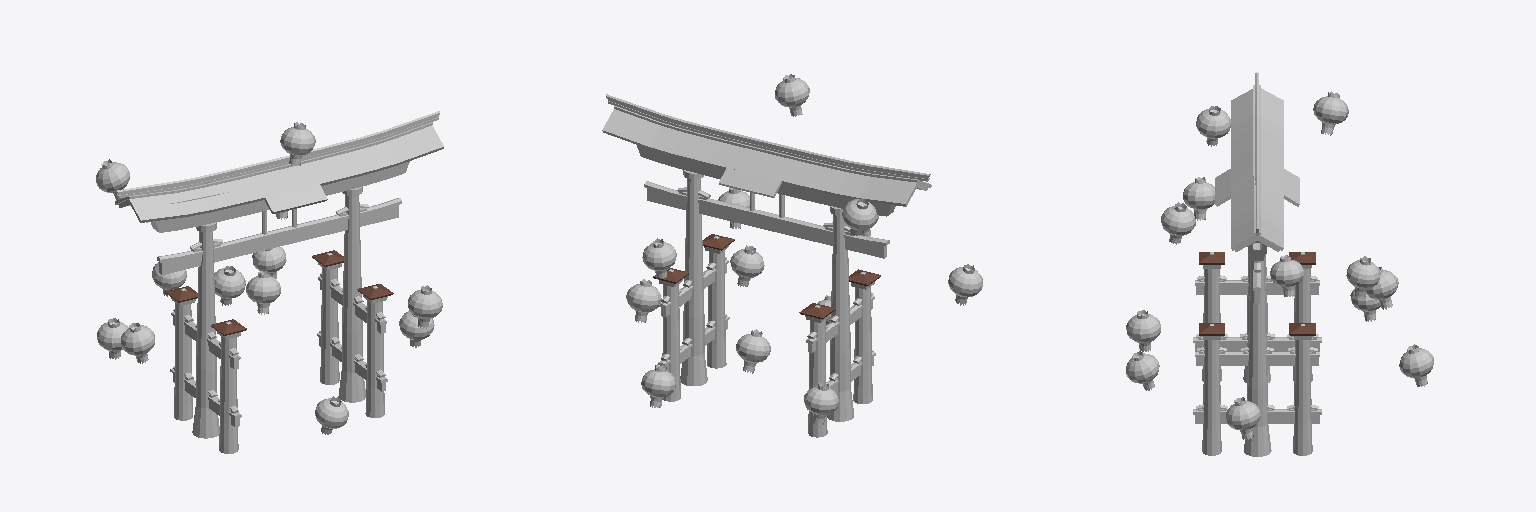
3 renders of one model, left to right at view 1: azimuth 30°, elevation 25°; view 2: azimuth 150°, elevation 25°; view 3: azimuth 270°, elevation 25°, orthographic.
Parts seen in each view (by area): view 1: group[number redacted], group[number redacted], group[number redacted], group[number redacted], group[number redacted], group[number redacted], group[number redacted], group[number redacted], group[number redacted], group[number redacted], group[number redacted], group[number redacted] (+8 smaller); view 2: group[number redacted], group[number redacted], group[number redacted], group[number redacted], group[number redacted], group[number redacted], group[number redacted], group[number redacted], group[number redacted], group[number redacted], group[number redacted], group[number redacted] (+6 smaller); view 3: group[number redacted], group[number redacted], group[number redacted], group[number redacted], group[number redacted], group[number redacted], group[number redacted], group[number redacted], group[number redacted], group[number redacted], group[number redacted], group[number redacted] (+4 smaller).
Part boxes in pixels (x1,y1,x2,y2): group[number redacted]: (280, 187, 401, 417); group[number redacted]: (115, 158, 291, 232); group[number redacted]: (280, 111, 443, 195); group[number redacted]: (192, 231, 219, 438); group[number redacted]: (219, 337, 238, 453); group[number redacted]: (174, 303, 192, 420); group[number redacted]: (159, 235, 280, 274); group[number redacted]: (265, 184, 327, 213); group[number redacted]: (280, 122, 315, 165); group[number redacted]: (246, 271, 280, 314); group[number redacted]: (408, 285, 442, 328); group[number redacted]: (121, 323, 154, 363); group[number redacted]: (644, 170, 768, 401); group[number redacted]: (754, 141, 931, 216); group[number redacted]: (602, 94, 766, 178); group[number redacted]: (827, 215, 853, 421); group[number redacted]: (853, 287, 872, 403); group[number redacted]: (808, 320, 827, 437); group[number redacted]: (766, 219, 886, 258); group[number redacted]: (719, 168, 781, 197); group[number redacted]: (626, 279, 661, 322); group[number redacted]: (804, 382, 838, 424); group[number redacted]: (775, 74, 809, 116); group[number redacted]: (641, 364, 675, 407); group[number redacted]: (1193, 246, 1321, 456); group[number redacted]: (1231, 72, 1283, 181); group[number redacted]: (1231, 159, 1283, 260); group[number redacted]: (1399, 344, 1433, 386); group[number redacted]: (1313, 91, 1348, 135); group[number redacted]: (1226, 397, 1260, 439); group[number redacted]: (1161, 202, 1195, 244); group[number redacted]: (1126, 310, 1160, 351); group[number redacted]: (1196, 106, 1230, 146); group[number redacted]: (1202, 269, 1221, 381); group[number redacted]: (1183, 177, 1214, 220); group[number redacted]: (1270, 255, 1303, 296).
Bounding box in the file's own units: 6.06 × 5.17 × 4.69.